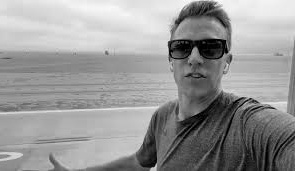earphone: (222, 53, 233, 75), (168, 53, 175, 72)
